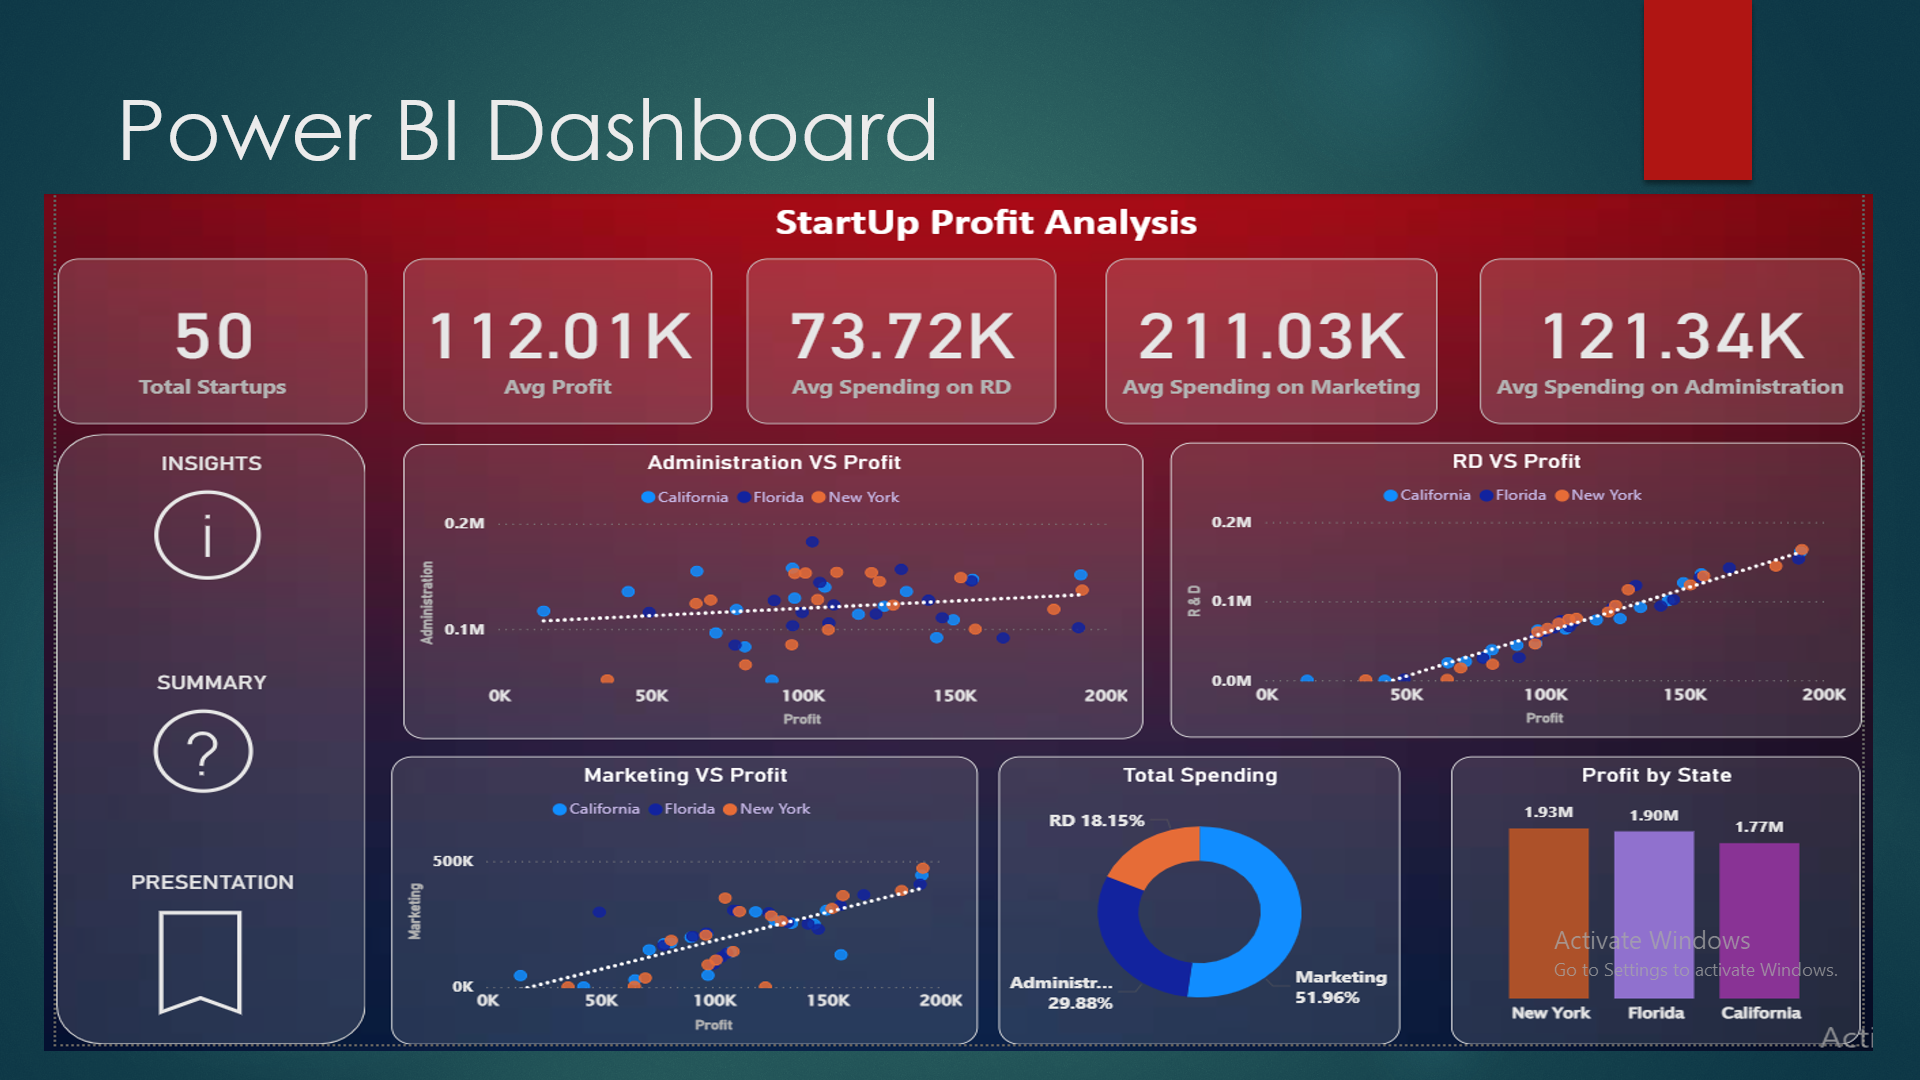

The page's visual inventory and layout, read from the dashboard file:
{"tool":"powerbi","page":{"name":"Dashboard","canvas":[1280,720],"ordinal":2},"visuals":[{"type":"textbox","box":[479,0,361.9,53.1],"z":0},{"type":"card","fields":{"Values":["Table.Avg Profit"]},"box":[246.1,55.5,219.6,139.9],"z":1000},{"type":"card","fields":{"Values":["Table.Avg Mkt_Spend"]},"box":[744.4,55.5,235.3,139.9],"z":2000},{"type":"shape","box":[0,203.9,219.6,516.4],"z":2500},{"type":"card","fields":{"Values":["Table.Avg Admn_Spend"]},"box":[1009.8,55,270.2,139.9],"z":3000},{"type":"card","fields":{"Values":["Table.Avg RD_Spend"]},"box":[489.8,55.5,219.6,139.9],"z":4000},{"type":"card","fields":{"Values":["Table.Total Startups"]},"box":[1.2,55.5,219.6,139.9],"z":5000},{"type":"scatterChart","title":"Administration VS Profit","fields":{"X":["Table.Profit"],"Y":["Table.Administration"],"Series":["Table.State"]},"box":[246.1,212.3,525,249.7],"z":7000},{"type":"scatterChart","title":"RD VS Profit","fields":{"X":["Table.Profit"],"Series":["Table.State"],"Y":["Table.RD_Spend"]},"box":[790.2,211.1,490,249.7],"z":8000},{"type":"scatterChart","title":"Marketing VS Profit","fields":{"X":["Table.Profit"],"Series":["Table.State"],"Y":["Table.Marketing_Spend"]},"box":[237.7,476.5,416.2,243.7],"z":9000},{"type":"clusteredColumnChart","fields":{"Category":["Table.State"],"Y":["Sum(Table.Profit)"]},"box":[989.3,476.5,290.8,243.7],"z":10000},{"type":"donutChart","title":"Total Spending","fields":{"Y":["Sum(Table.Marketing_Spend)","Sum(Table.Administration)","Sum(Table.RD_Spend)"]},"box":[668.4,476.5,284.7,243.7],"z":11000},{"type":"actionButton","title":"PRESENTATION","box":[48.3,573.1,142.4,132.7],"z":14500},{"type":"actionButton","title":"SUMMARY","box":[60.1,403.7,100.1,112.2],"z":15000},{"type":"actionButton","title":"INSIGHTS","box":[60.3,218.4,100.1,118.2],"z":15500}]}

Visuals, with their boxes on the page's 1280x720 design canvas (x1, y1, x2, y2). These are canvas units, not pixel positions in the 1920x1080 screenshot, which may show the page scaled, cropped or inside an application window:
textbox: (479, 0, 841, 53)
card - Table.Avg Profit: (246, 56, 466, 195)
card - Table.Avg Mkt_Spend: (744, 56, 980, 195)
shape: (0, 204, 220, 720)
card - Table.Avg Admn_Spend: (1010, 55, 1280, 195)
card - Table.Avg RD_Spend: (490, 56, 709, 195)
card - Table.Total Startups: (1, 56, 221, 195)
"Administration VS Profit" scatterChart: (246, 212, 771, 462)
"RD VS Profit" scatterChart: (790, 211, 1280, 461)
"Marketing VS Profit" scatterChart: (238, 476, 654, 720)
clusteredColumnChart - Table.State x Sum(Table.Profit): (989, 476, 1280, 720)
"Total Spending" donutChart: (668, 476, 953, 720)
"PRESENTATION" actionButton: (48, 573, 191, 706)
"SUMMARY" actionButton: (60, 404, 160, 516)
"INSIGHTS" actionButton: (60, 218, 160, 337)
